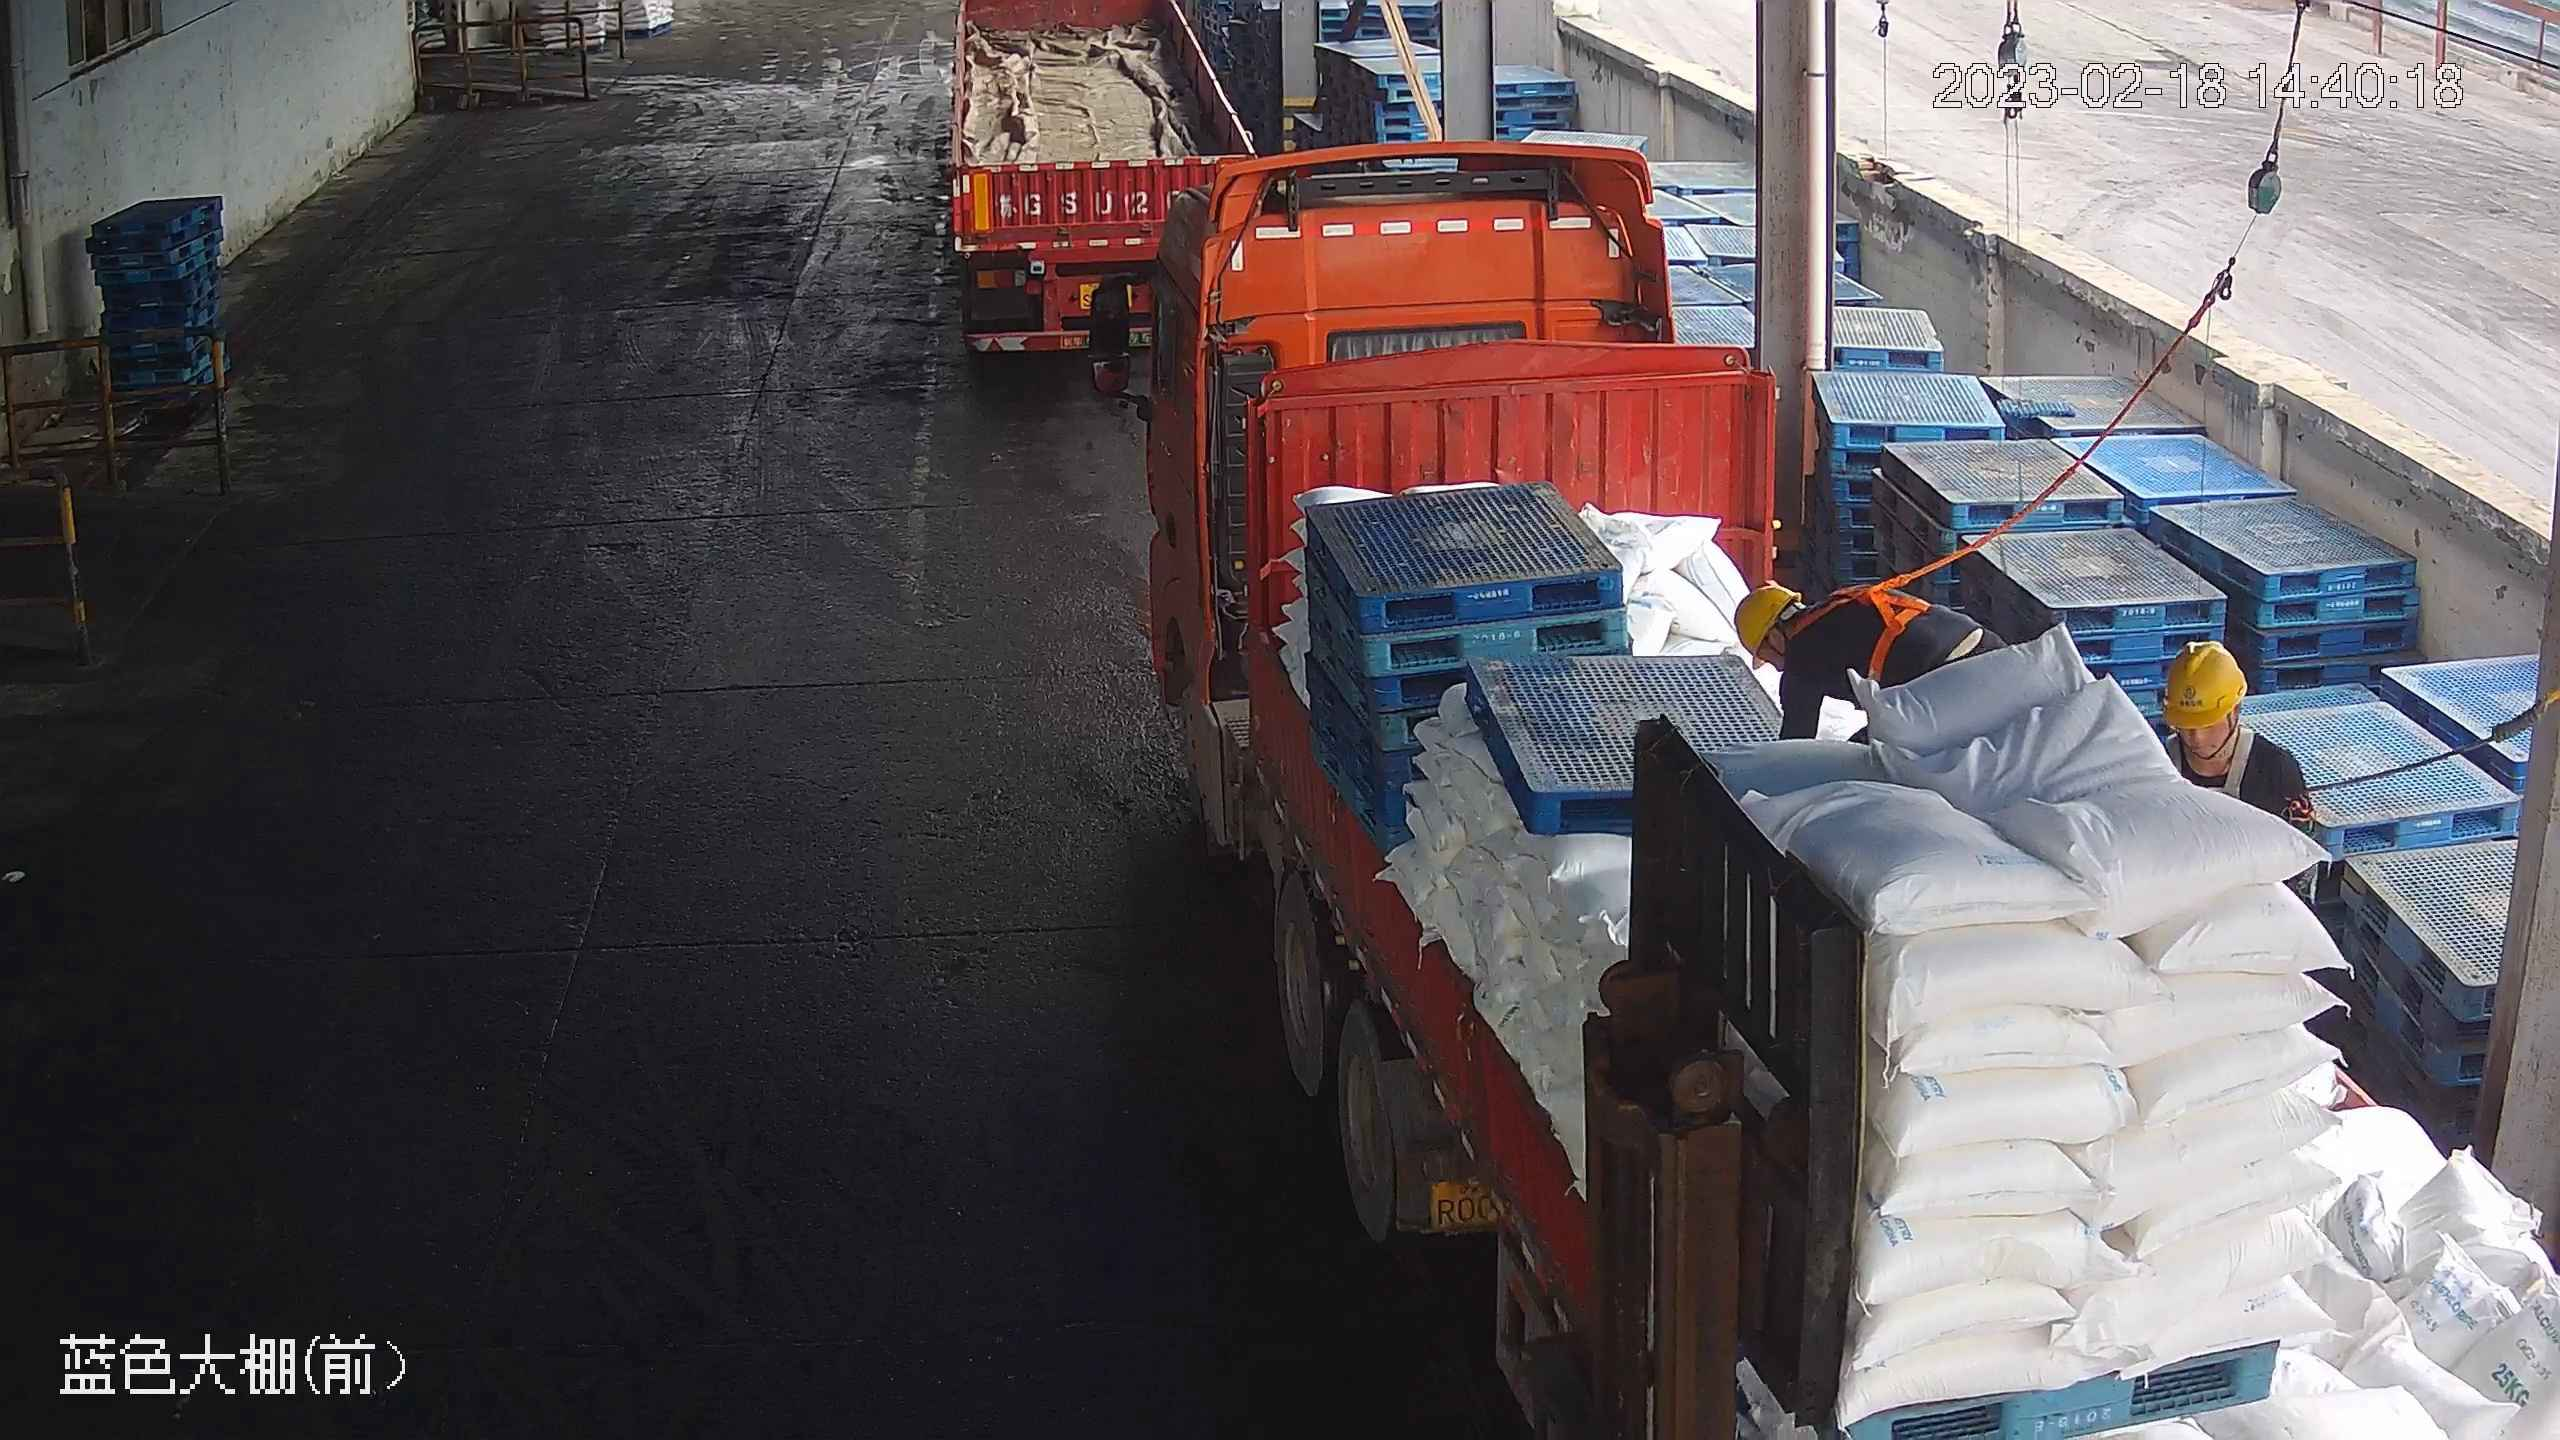belt: (1817, 568, 1930, 678), (2174, 728, 2284, 803)
head: (1731, 580, 1876, 687)
helmet: (2160, 636, 2250, 729), (1731, 583, 1804, 669)
people: (1732, 579, 1977, 747)
truck: (1076, 152, 2560, 1440), (941, 1, 1272, 363)
